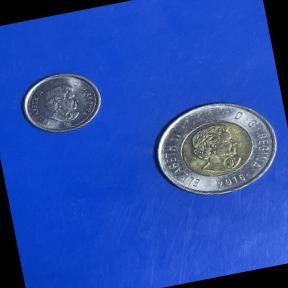Canada-10cent-B: (10, 59, 110, 145)
Canada-2Dollar-B: (138, 84, 288, 214)
